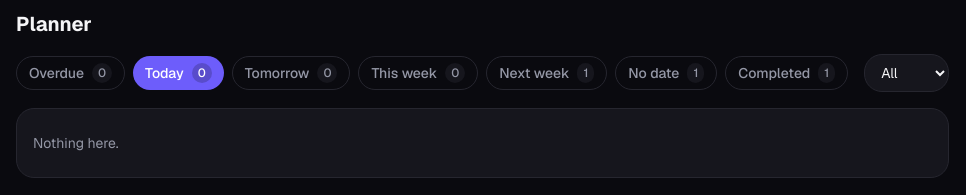
it: PlannerPage › shows the Next week tab, the Completed tab, and a contact avatar/name when present
This screenshot has width=966, height=195.
Click the button "Next week 1".
click(547, 73)  # box [486,56,607,90]
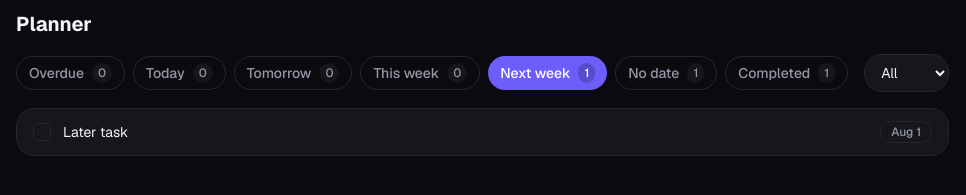
Now the text "Later task" is shown, box [63,123,128,141]
Click the button "Completed 1".
click(787, 73)  # box [725,56,848,90]
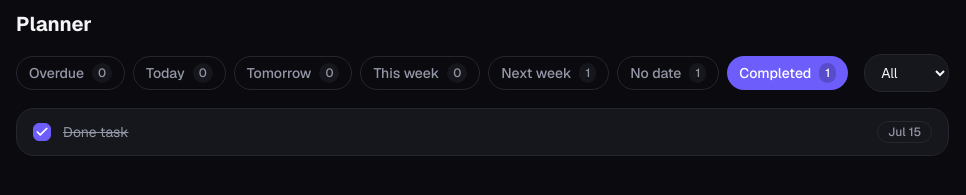
Now the text "Done task" is shown, box [63,123,128,141]
Click the button "No date 1".
click(668, 73)  # box [617,56,719,90]
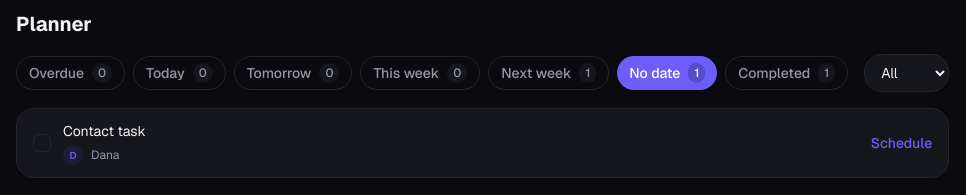
Now the text "Contact task" is shown, box [63,122,146,140]
Now the text "Dana" is shown, box [91,147,120,163]
Now the text "D" is shown, box [63,145,83,165]
